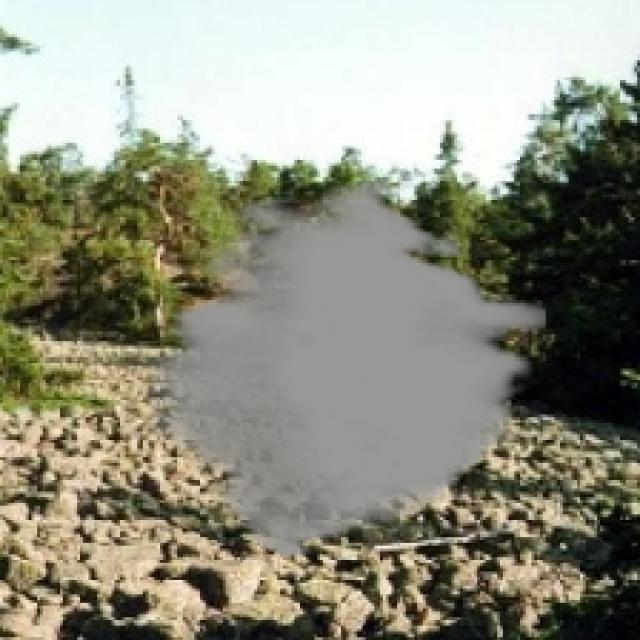Smoke: (145, 177, 546, 560)
